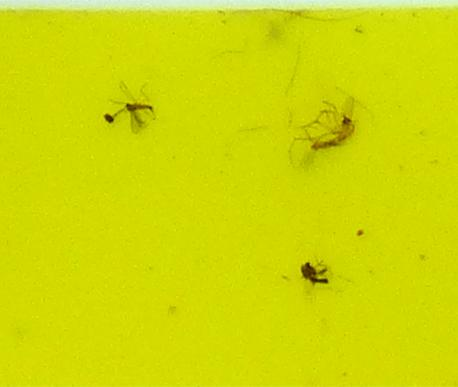Nematocera: (303, 103, 358, 162), (100, 100, 155, 131), (296, 262, 331, 287)
